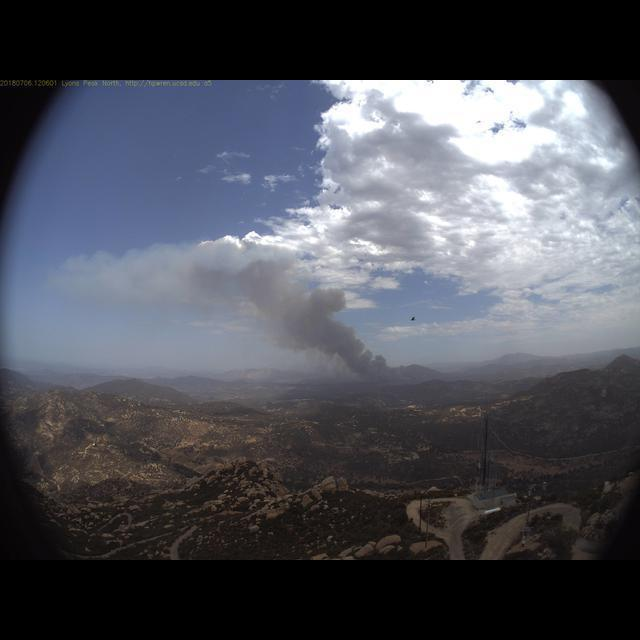Smoke: (123, 243, 416, 405)
